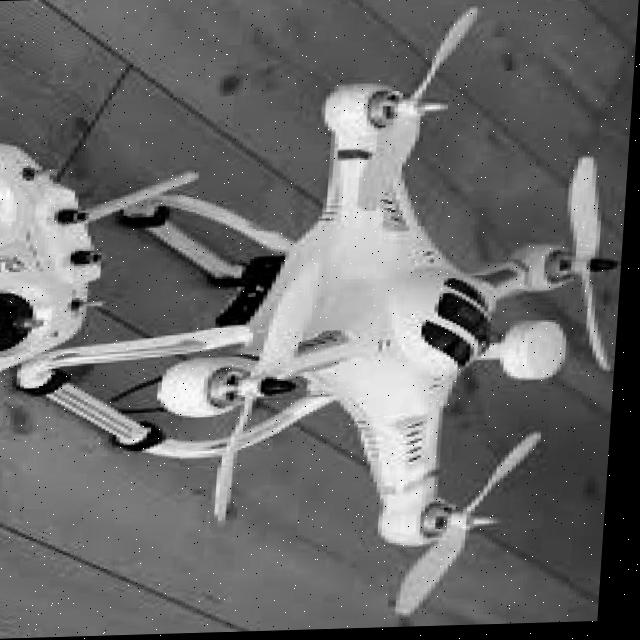drone: (32, 0, 640, 638)
